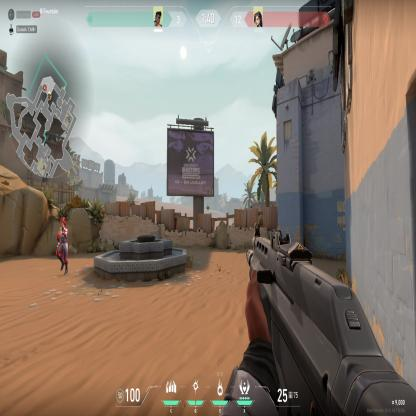enemy: (55, 216, 70, 275)
